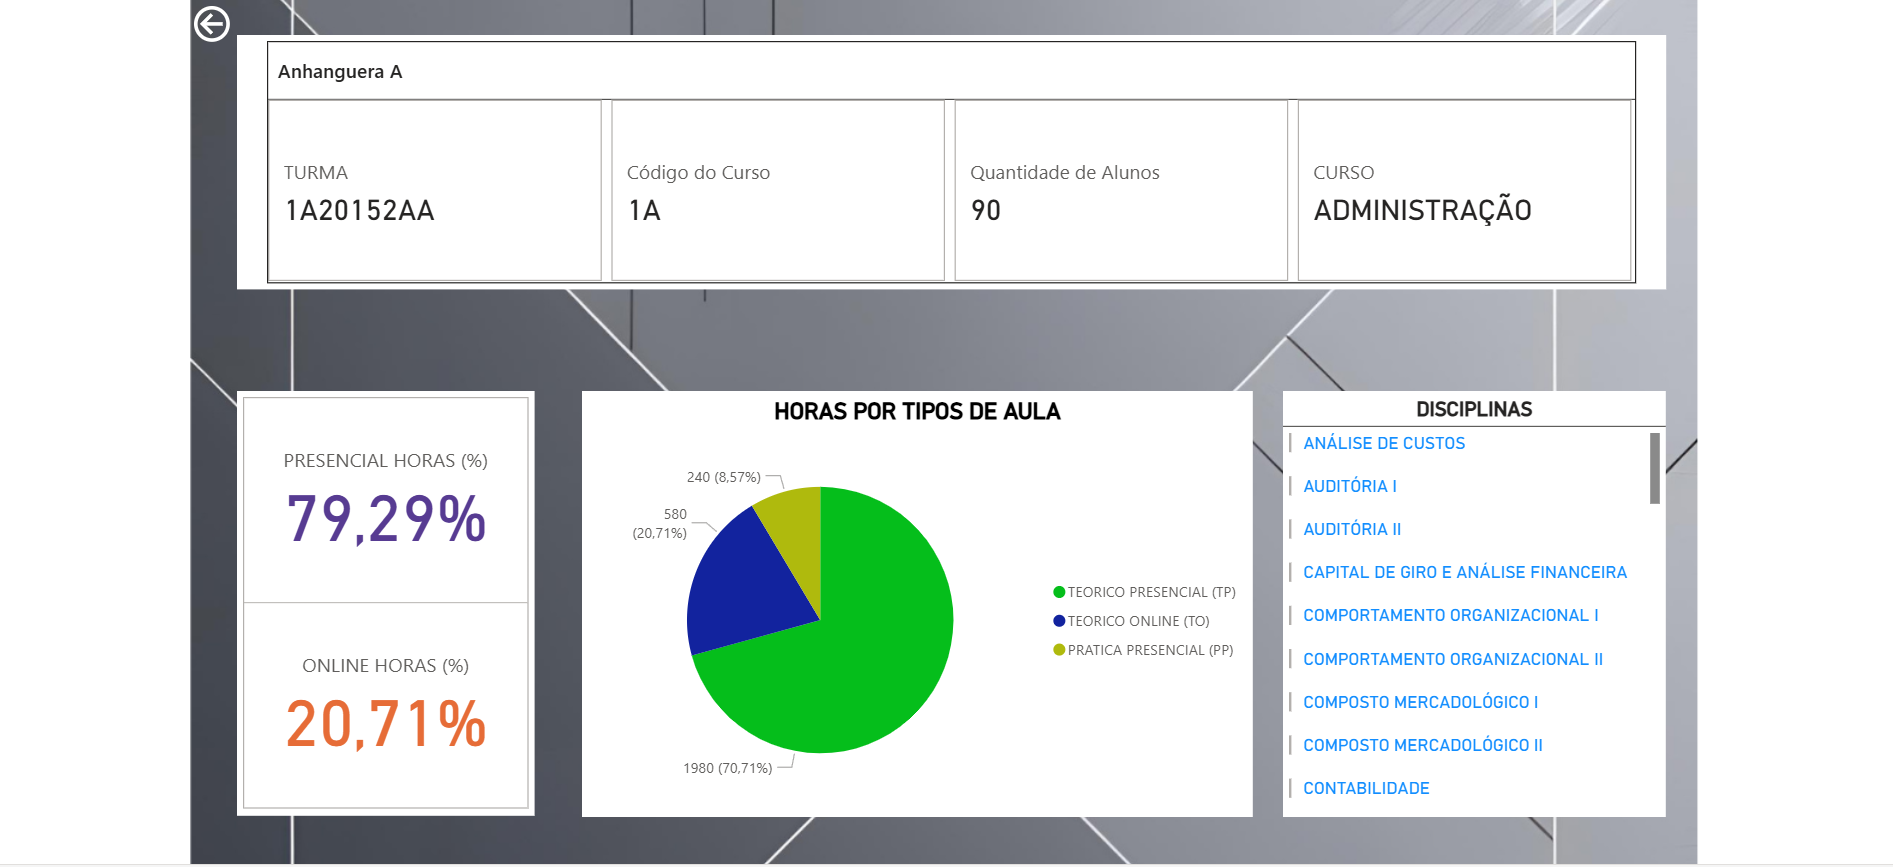

This screenshot's page, from the dashboard's own definition file:
{"tool":"powerbi","page":{"name":"Página 2","canvas":[1280,720],"ordinal":1},"visuals":[{"type":"actionButton","box":[8.8,0,100.2,39.9],"z":4000},{"type":"multiRowCard","title":"DISCIPLINAS","fields":{"Values":["TB_GRADE.DISCIPLINA"]},"box":[922.1,325.8,319,355],"z":5000},{"type":"pieChart","title":"HORAS POR TIPOS DE AULA","fields":{"Y":["Sum(TB_TURMA_CARGA_HORARIA.TEORICO PRESENCIAL (TP))","Sum(TB_TURMA_CARGA_HORARIA.TEORICO ONLINE (TO))","Sum(TB_TURMA_CARGA_HORARIA.PRATICA PRESENCIAL (PP))"]},"box":[337.5,325.8,559.3,355],"z":7000},{"type":"cardVisual","fields":{"Data":["Min(TB_GRADE.TURMA)","Min(TB_GRADE.COD_CURSO)","Sum(TB_TURMA_ALUNOS.QUANTIDADE_ALUNOS)","Min(TB_GRADE.CURSO)"],"Rows":["TB_GRADE.INSTITUIÇÃO DE ENSINO"]},"box":[49.6,29.2,1191.5,212],"z":7001},{"type":"cardVisual","fields":{"Data":["Sum(TB_TURMA_CARGA_HORARIA.PRESENCIAL (%))","Sum(TB_TURMA_CARGA_HORARIA.ONLINE (%))"]},"box":[49.6,325.8,248,354],"z":7002}]}

Visuals, with their boxes in screenshot pixels (x1, y1, x2, y2):
actionButton: left=188, top=0, right=307, bottom=47
"DISCIPLINAS" multiRowCard: left=1273, top=387, right=1652, bottom=809
"HORAS POR TIPOS DE AULA" pieChart: left=579, top=387, right=1243, bottom=809
cardVisual - Min(TB_GRADE.TURMA) x Min(TB_GRADE.COD_CURSO): left=236, top=35, right=1652, bottom=287
cardVisual - Sum(TB_TURMA_CARGA_HORARIA.PRESENCIAL (%)) x Sum(TB_TURMA_CARGA_HORARIA.ONLINE (%)): left=236, top=387, right=531, bottom=808
